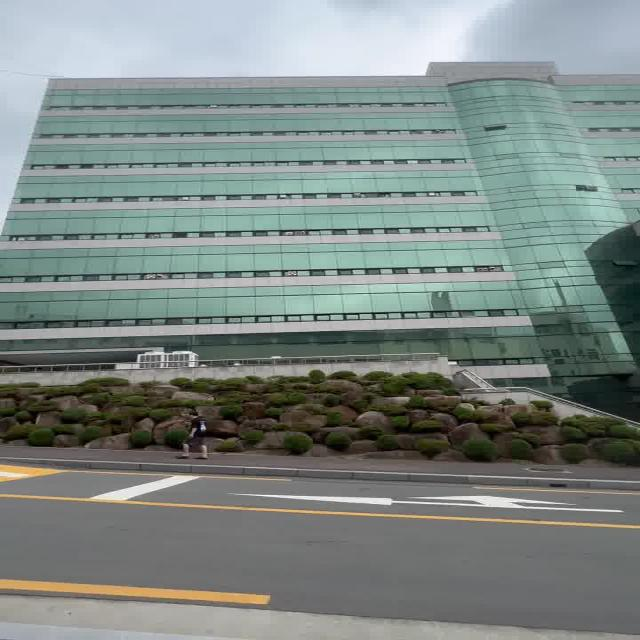building: (34, 72, 640, 341)
